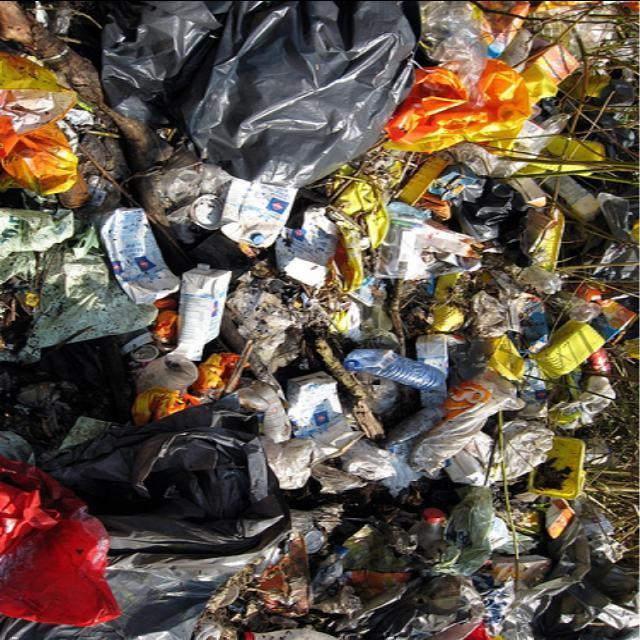Trashbag: (101, 6, 416, 186), (69, 391, 271, 518)
